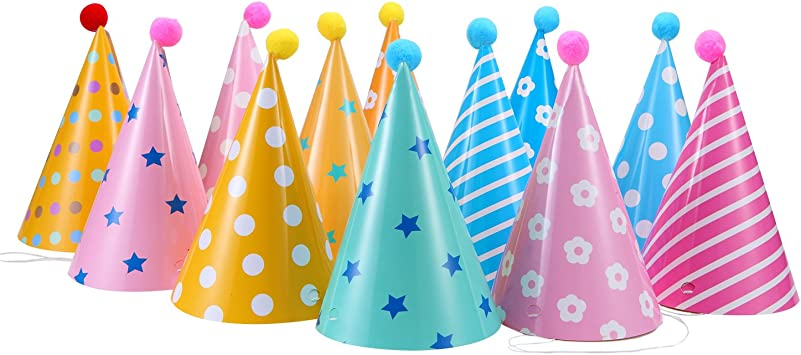cone: (315, 62, 501, 351), (491, 64, 663, 342), (171, 53, 335, 324), (640, 56, 800, 315), (68, 40, 208, 292), (18, 25, 130, 252), (442, 44, 533, 295), (612, 39, 691, 254), (299, 39, 372, 265), (199, 19, 264, 202), (509, 30, 558, 170)
